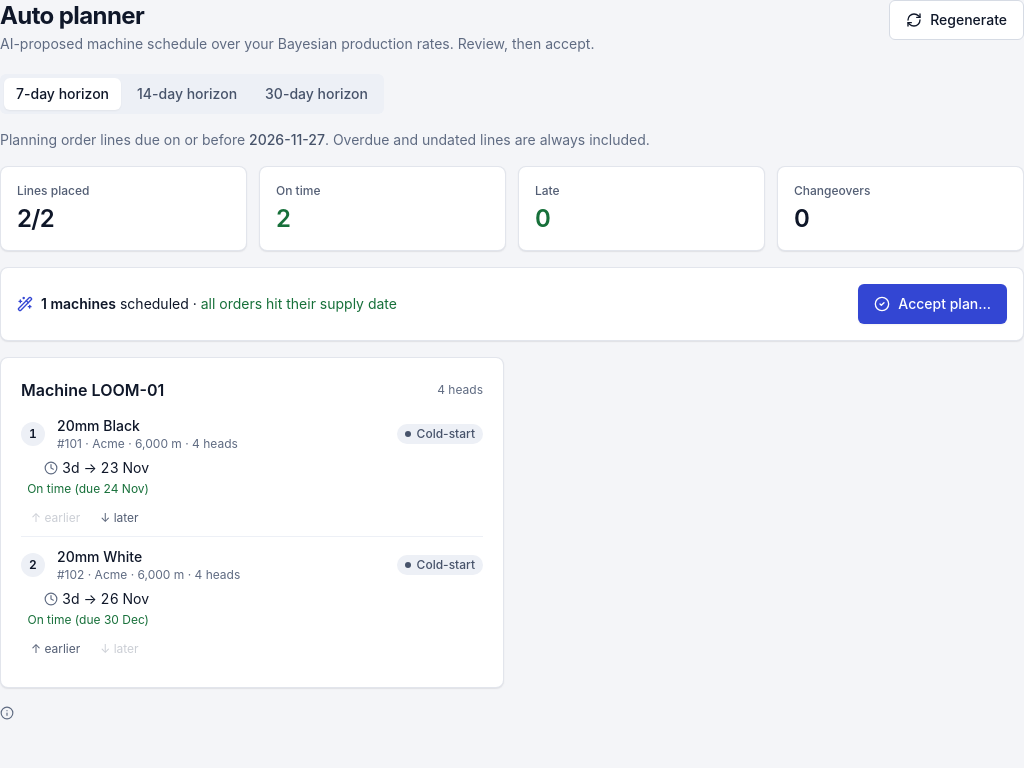
moving a line on the plan › says so, and still lets the plan be accepted, when it cannot be scored
The image size is (1024, 768).
Click the button with aria-label "Move 20mm Black later".
click(120, 518)  # box [94,508,145,528]
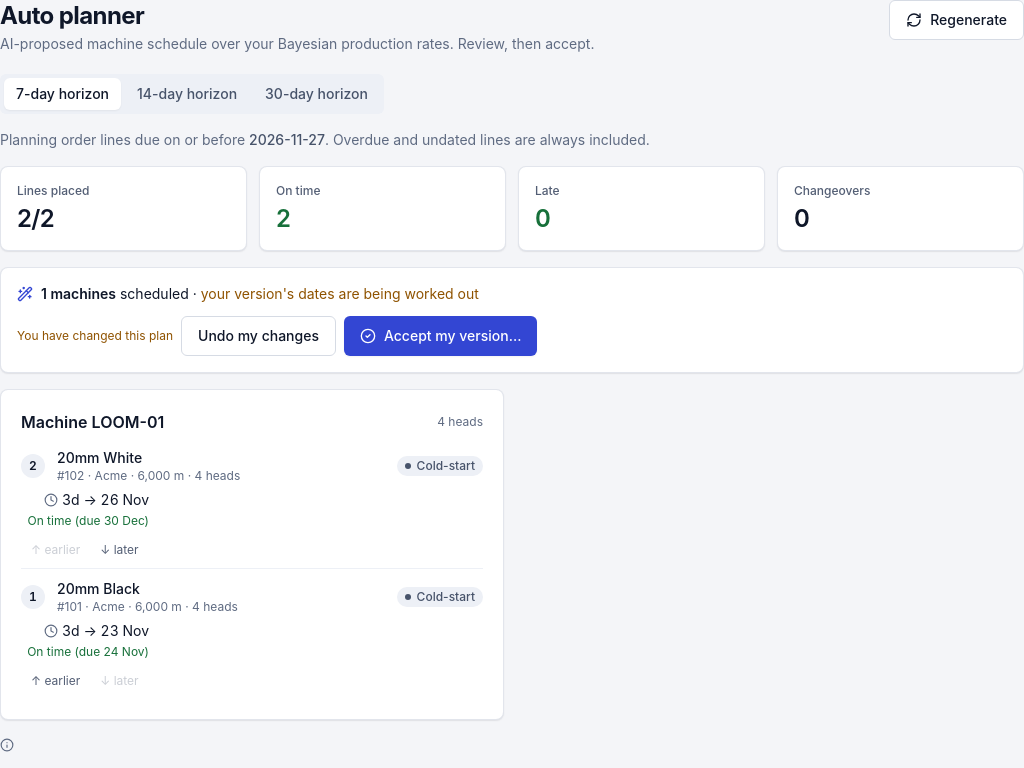
Expected: the text "your version's dates are being worked out" is shown, [201,284,479,302]
Expected: the text "all orders hit their supply date" is gone
Click the button "Accept my version…".
click(441, 336)  # box [344,316,538,356]
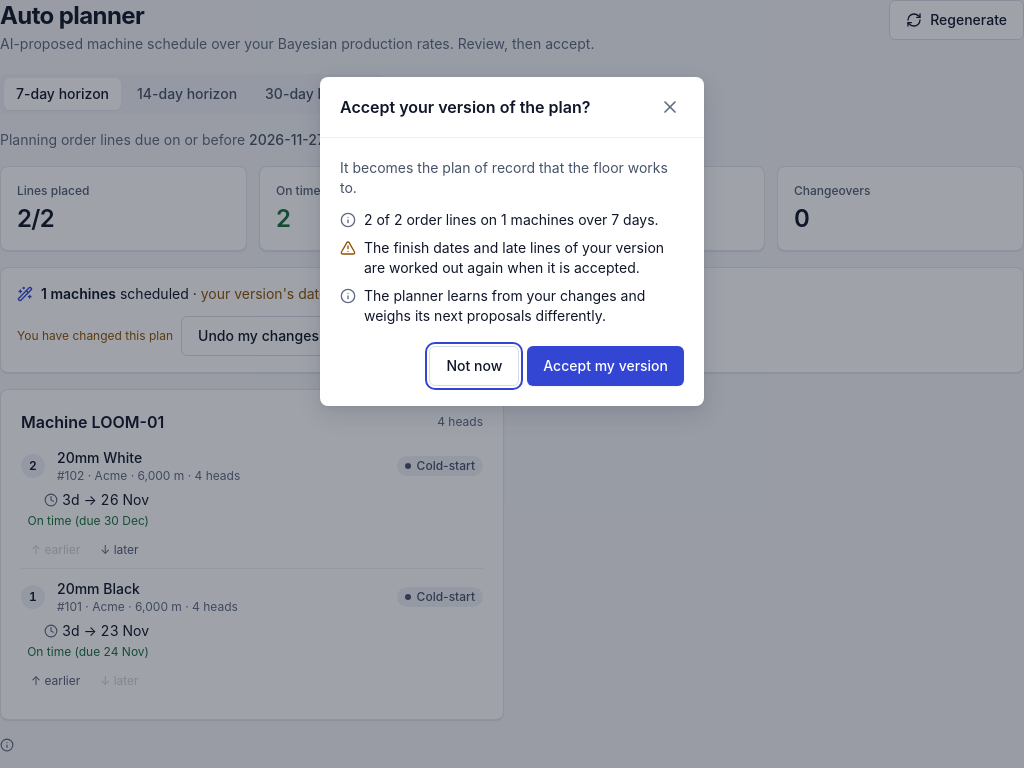
Expected: the text "worked out again when it is accepted" is shown, [364,239,664,276]
